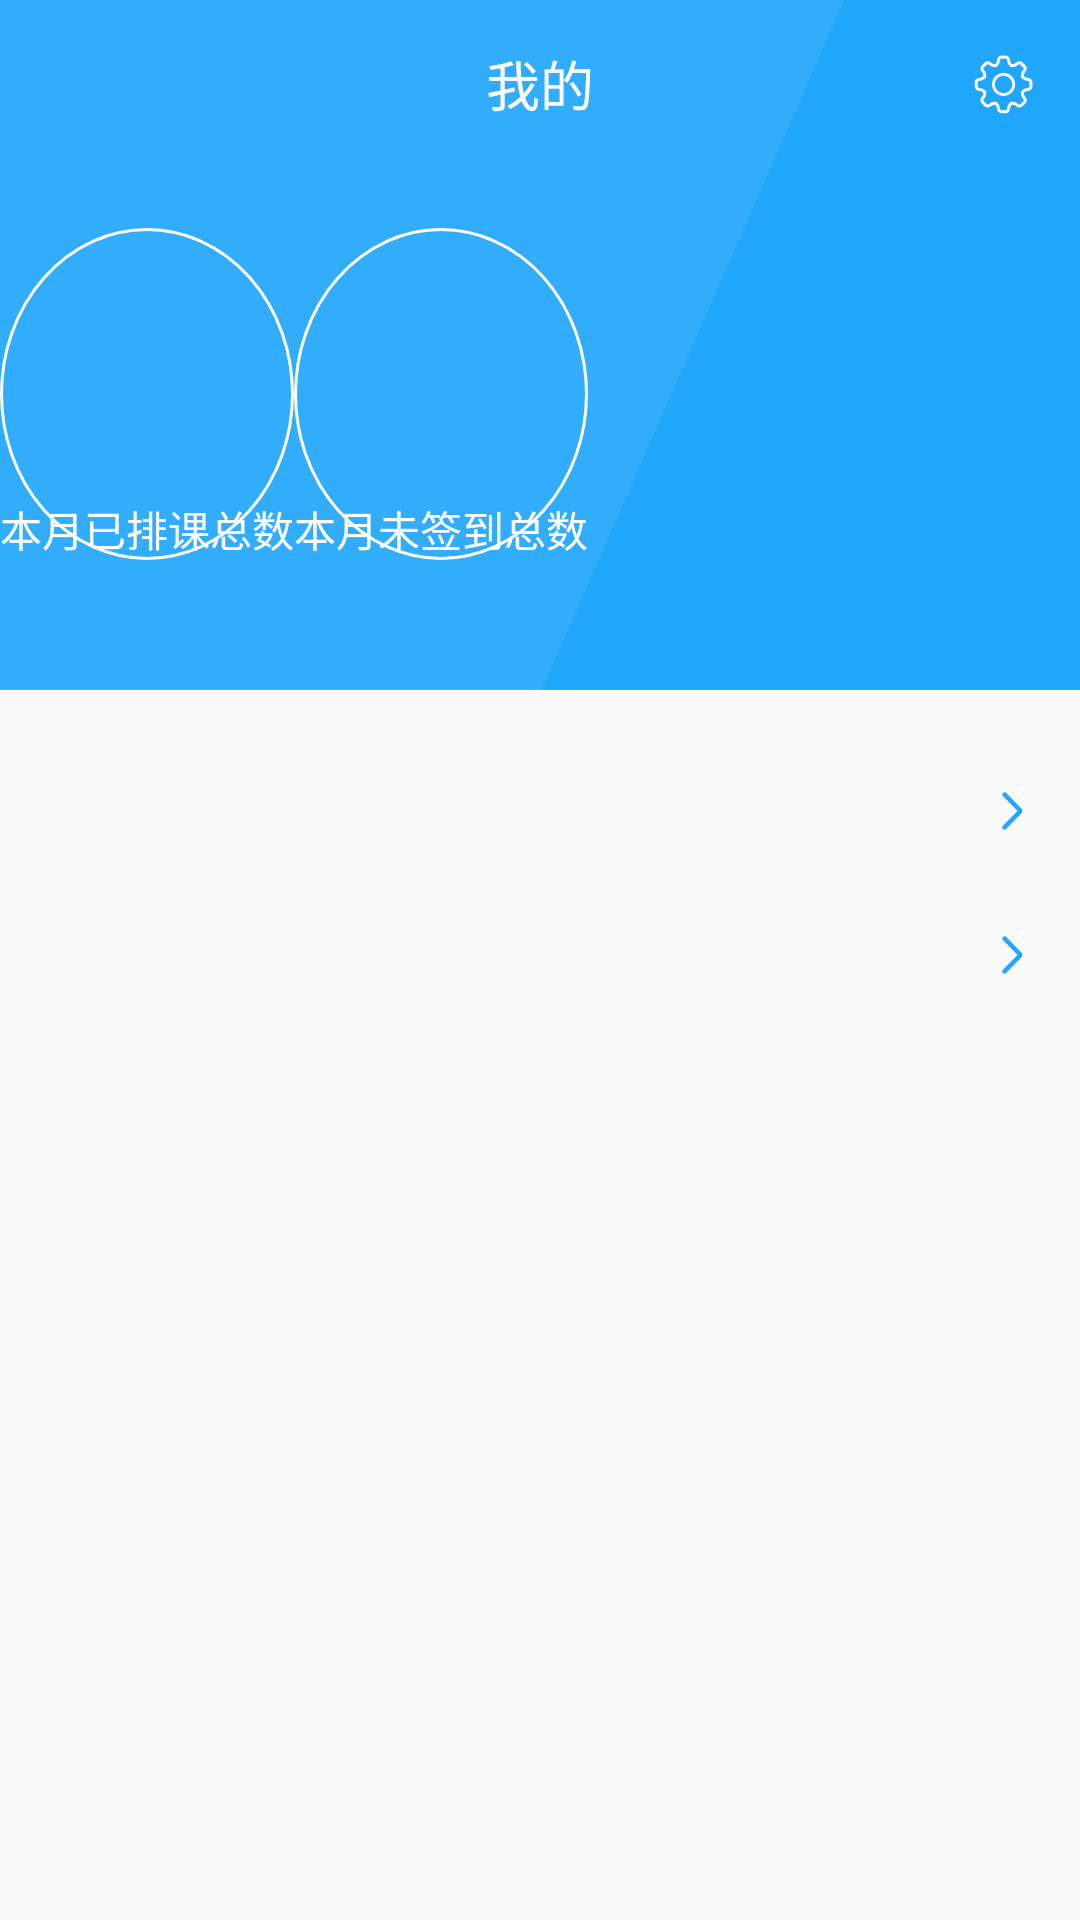

Where to tap for icons on this 1080px x 1920px app screen, as (x,y):
arrow right: (1012,811), (1012,955)
